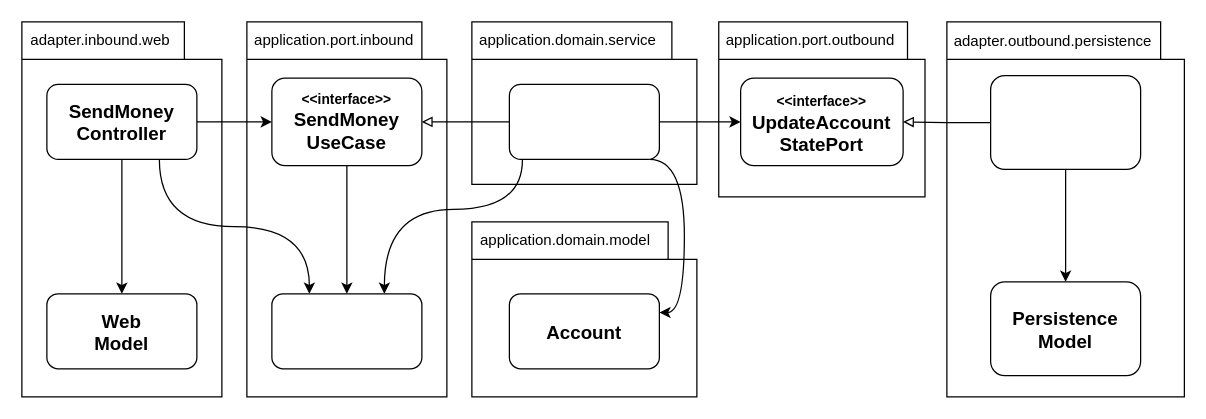
This 1206x419 diagram has some shape labels left out. Each missing label, with the centre of its shape:
Account Persistence Adapter: [1065,121]
SendMoney Command: [346,330]
SendMoney Service: [583,121]
